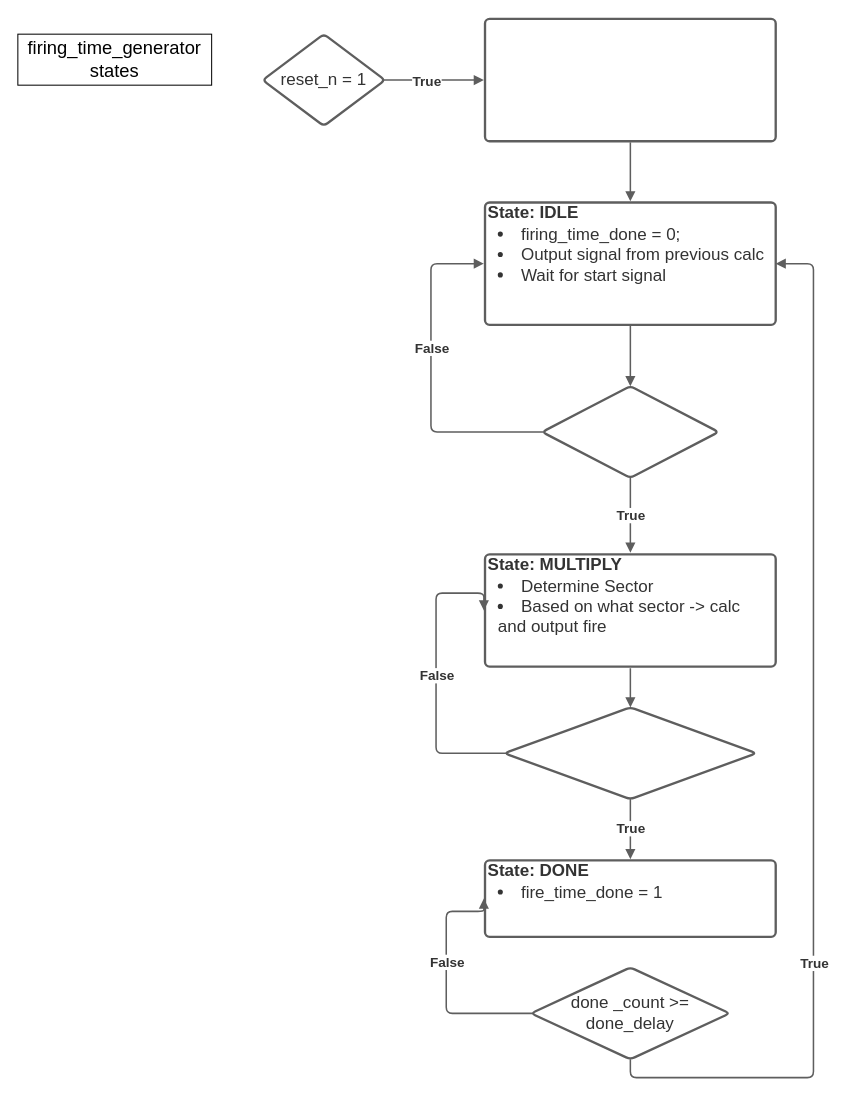
This 846x1104 diagram has some shape labels left out. The centre of each missing label's shape, as x and y in pixels:
fire_time_start = 1: point 629,431
int_mult _counter >= int_mult_delay: point 630,753
Reset Set all internal registers/counters to zero Set all outputs to zero: point 629,79
